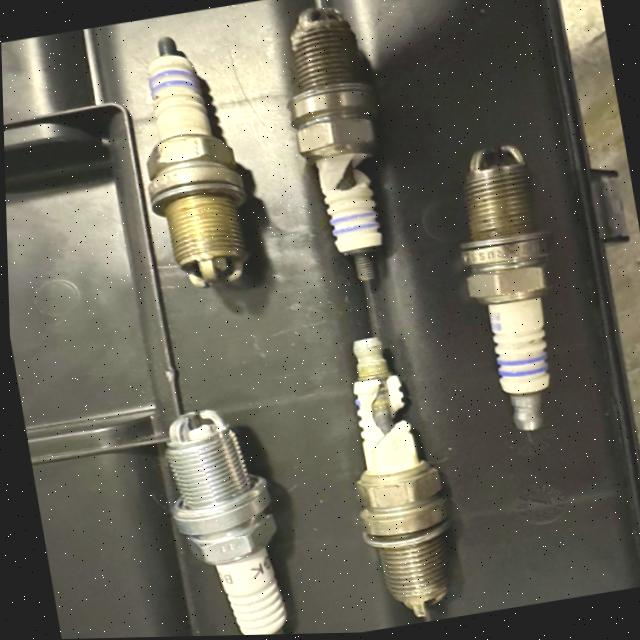damaged_spark-plug: (328, 332, 465, 631), (273, 6, 411, 292)
spark-plug: (144, 384, 311, 638), (113, 28, 261, 300), (439, 144, 568, 446)
